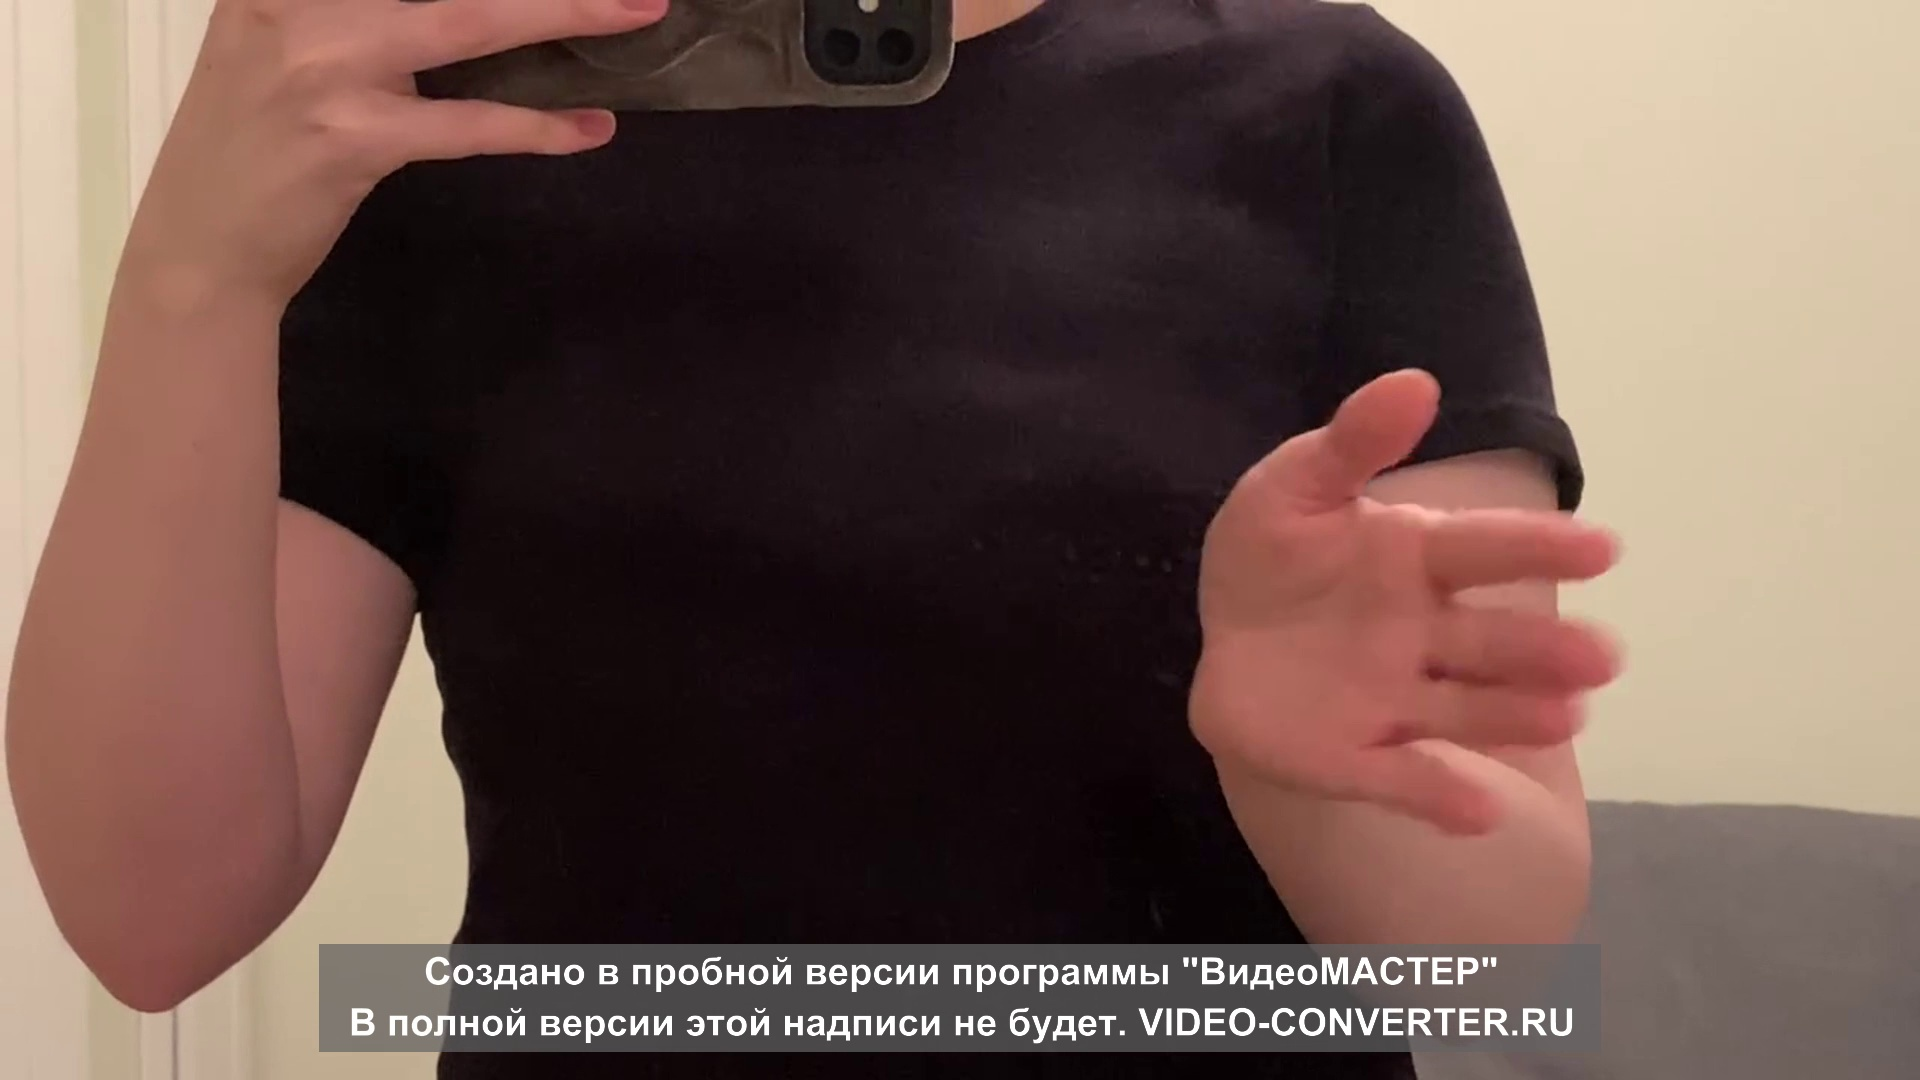Ладонь: (1200, 371, 1629, 836)
